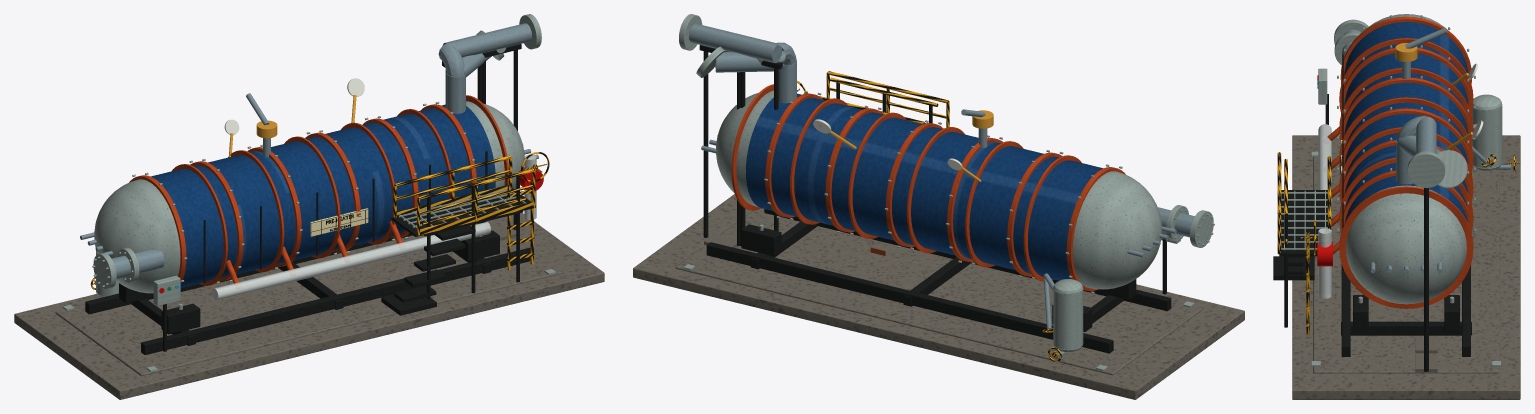
File: level5_preheater_industrial_uv.glb
3 views of the same model, side by side, from view 1: azimuth 30°, elevation 25°; view 2: azimuth 150°, elevation 25°; view 3: azimuth 270°, elevation 25° (orthographic). The views are drawn at different scales.
Parts seen in each view (by area): view 1: L5_PreHeater_Blue_Insulated_Shell, L5_PreHeater_Concrete_Foundation, L5_PreHeater_Extended_Service_Pad, L5_PreHeater_Left_Dished_EndCap, L5_PreHeater_Skid_LongBeam_-1.1, L5_Steam_Manifold_Header, L5_PreHeater_Right_Dished_EndCap, Pipe_Preheater_Outlet_CleanHeader, L5_Service_Platform_ExpandedGrating_Frame, L5_PreHeater_Skid_LongBeam_+1.1, HeatingFin_Band_01, L5_Shell_Saddle_Base_-3.4_-0.8 (+21 smaller); view 2: L5_PreHeater_Blue_Insulated_Shell, L5_PreHeater_Concrete_Foundation, L5_PreHeater_Extended_Service_Pad, L5_PreHeater_Left_Dished_EndCap, L5_PreHeater_Skid_LongBeam_+1.1, L5_PreHeater_Right_Dished_EndCap, Pipe_Preheater_Outlet_CleanHeader, L5_Condensate_Pot_VerticalVessel, L5_PreHeater_Skid_LongBeam_-1.1, L5_Shell_Saddle_Base_+3.4_+0.8, L5_OutletPipeRack_Support_01_Post_R, HeatingFin_Band_05 (+16 smaller); view 3: L5_PreHeater_Concrete_Foundation, L5_PreHeater_Extended_Service_Pad, L5_PreHeater_Blue_Insulated_Shell, L5_PreHeater_Right_Dished_EndCap, HeatingFin_JacketClamp_05, L5_Service_Platform_ExpandedGrating_Frame, L5_Condensate_Pot_VerticalVessel, L5_PreHeater_Skid_CrossFrame_+3.3, L5_CleanOutlet_Flange, HeatingFin_JacketClamp_02, HeatingFin_JacketClamp_01, HeatingFin_Band_02 (+35 smaller).
Part boxes in pixels (bbox=[...]): L5_PreHeater_Blue_Insulated_Shell: bbox=[151, 104, 495, 287]; L5_PreHeater_Concrete_Foundation: bbox=[55, 220, 563, 376]; L5_PreHeater_Extended_Service_Pad: bbox=[14, 212, 604, 399]; L5_PreHeater_Left_Dished_EndCap: bbox=[94, 179, 180, 293]; L5_PreHeater_Skid_LongBeam_-1.1: bbox=[141, 247, 530, 354]; L5_Steam_Manifold_Header: bbox=[212, 222, 490, 300]; L5_PreHeater_Right_Dished_EndCap: bbox=[466, 101, 524, 189]; Pipe_Preheater_Outlet_CleanHeader: bbox=[442, 23, 531, 57]; L5_Service_Platform_ExpandedGrating_Frame: bbox=[391, 188, 535, 236]; L5_PreHeater_Skid_LongBeam_+1.1: bbox=[85, 233, 412, 314]; HeatingFin_Band_01: bbox=[190, 161, 243, 281]; L5_Shell_Saddle_Base_-3.4_-0.8: bbox=[161, 303, 200, 334]; L5_PreHeater_Blue_Insulated_Shell: bbox=[746, 93, 1103, 280]; L5_PreHeater_Concrete_Foundation: bbox=[675, 208, 1202, 375]; L5_PreHeater_Extended_Service_Pad: bbox=[633, 194, 1244, 399]; L5_PreHeater_Left_Dished_EndCap: bbox=[1072, 171, 1161, 289]; L5_PreHeater_Skid_LongBeam_+1.1: bbox=[706, 242, 1113, 353]; L5_PreHeater_Right_Dished_EndCap: bbox=[716, 90, 773, 207]; Pipe_Preheater_Outlet_CleanHeader: bbox=[689, 23, 781, 62]; L5_Condensate_Pot_VerticalVessel: bbox=[1053, 288, 1083, 349]; L5_PreHeater_Skid_LongBeam_-1.1: bbox=[764, 209, 1171, 310]; L5_Shell_Saddle_Base_+3.4_+0.8: bbox=[741, 224, 781, 256]; L5_OutletPipeRack_Support_01_Post_R: bbox=[703, 51, 708, 237]; HeatingFin_Band_05: bbox=[765, 93, 823, 217]; L5_PreHeater_Concrete_Foundation: bbox=[1313, 150, 1499, 373]; L5_PreHeater_Extended_Service_Pad: bbox=[1292, 135, 1520, 399]; L5_PreHeater_Blue_Insulated_Shell: bbox=[1344, 22, 1468, 222]; L5_PreHeater_Right_Dished_EndCap: bbox=[1346, 185, 1466, 304]; HeatingFin_JacketClamp_05: bbox=[1339, 186, 1473, 308]; L5_Service_Platform_ExpandedGrating_Frame: bbox=[1279, 190, 1327, 256]; L5_Condensate_Pot_VerticalVessel: bbox=[1471, 104, 1502, 168]; L5_PreHeater_Skid_CrossFrame_+3.3: bbox=[1341, 321, 1471, 335]; L5_CleanOutlet_Flange: bbox=[1407, 151, 1445, 188]; HeatingFin_JacketClamp_02: bbox=[1339, 97, 1473, 170]; HeatingFin_JacketClamp_01: bbox=[1339, 68, 1473, 140]; HeatingFin_Band_02: bbox=[1340, 77, 1471, 143].
Bounding box in the file's own units: 10.85 × 4.78 × 4.44.
Materials: 1 (1 with a texture image).
